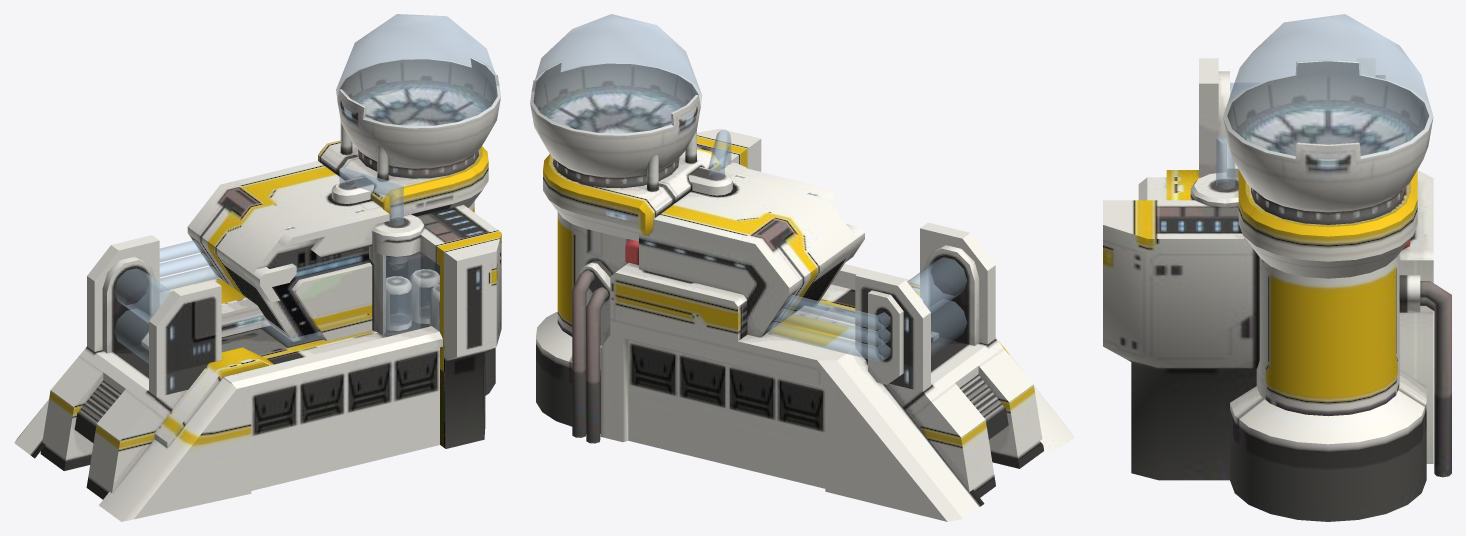
The picture shows the model from 3 angles, left to right: view 1: azimuth 30°, elevation 25°; view 2: azimuth 150°, elevation 25°; view 3: azimuth 270°, elevation 25°; orthographic projection. The views are drawn at different scales.
Parts seen in each view (by area): view 1: chemical-plant; view 2: chemical-plant; view 3: chemical-plant.
Part boxes in pixels (box(x1,y1,x2,y2)): chemical-plant: box(14, 14, 501, 521); chemical-plant: box(530, 14, 1074, 521); chemical-plant: box(1103, 14, 1451, 521).
Size of the model in its own units: 9.19 by 7.27 by 4.97.
Materials: 4 (1 with a texture image).
